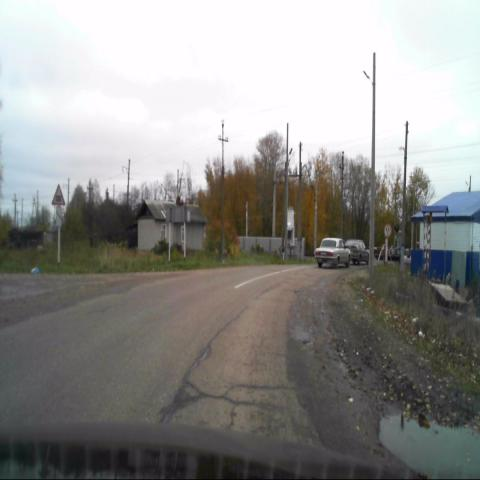1_1: (52, 185, 65, 204)
